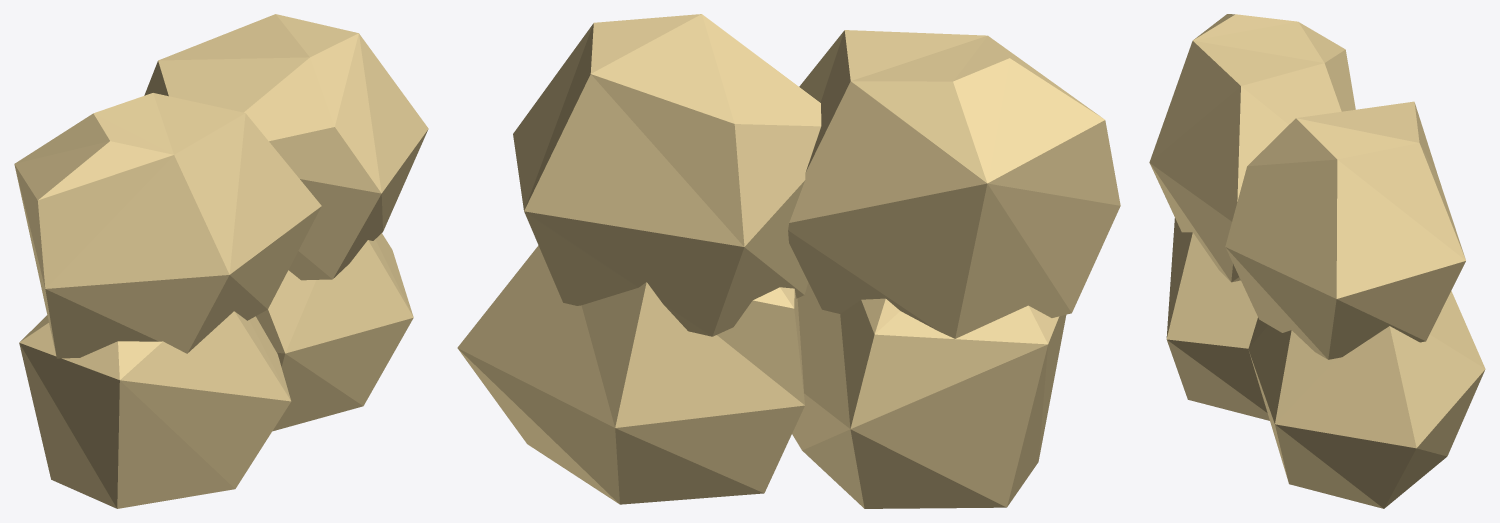
Rendered from feed_sack_stack.fbx.
3 renders of one model, left to right at view 1: azimuth 30°, elevation 25°; view 2: azimuth 150°, elevation 25°; view 3: azimuth 270°, elevation 25°, orthographic. The views are drawn at different scales.
Parts seen in each view (by area): view 1: feed_sack_stack; view 2: feed_sack_stack; view 3: feed_sack_stack.
Part boxes in pixels (x1,y1,x2,y2): feed_sack_stack: (14,14,428,508); feed_sack_stack: (457,14,1120,508); feed_sack_stack: (1149,14,1485,508).
Size of the model in its own units: 1.2 by 0.9 by 0.8.
